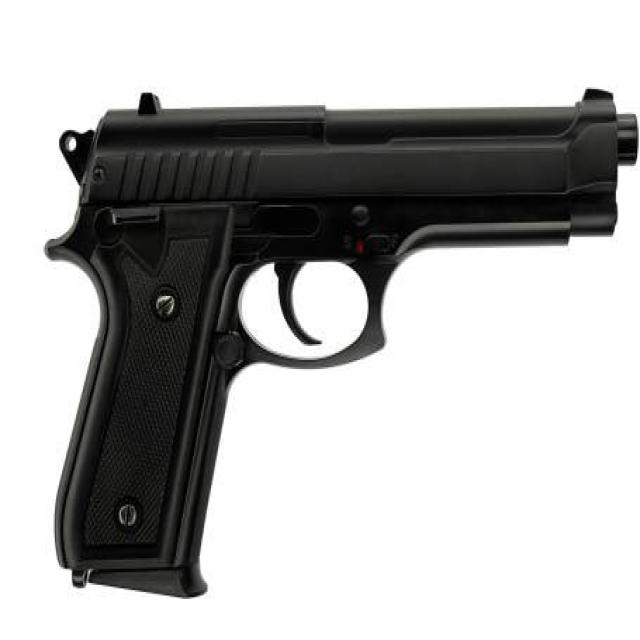pistol: (39, 75, 640, 609)
